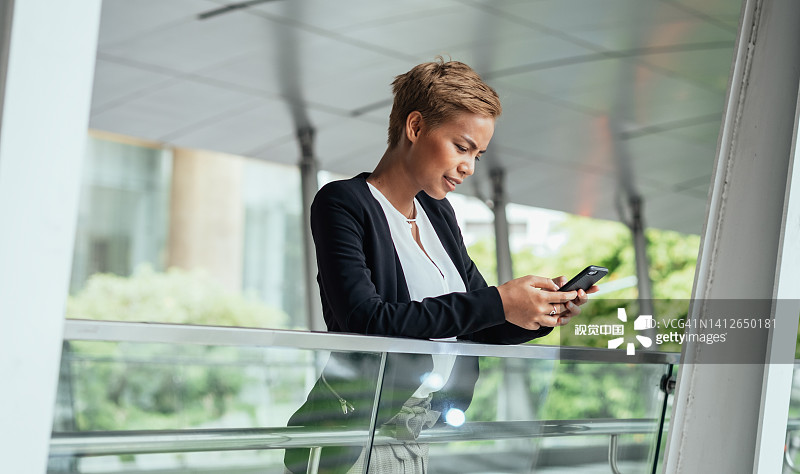reading: (474, 249, 610, 338)
